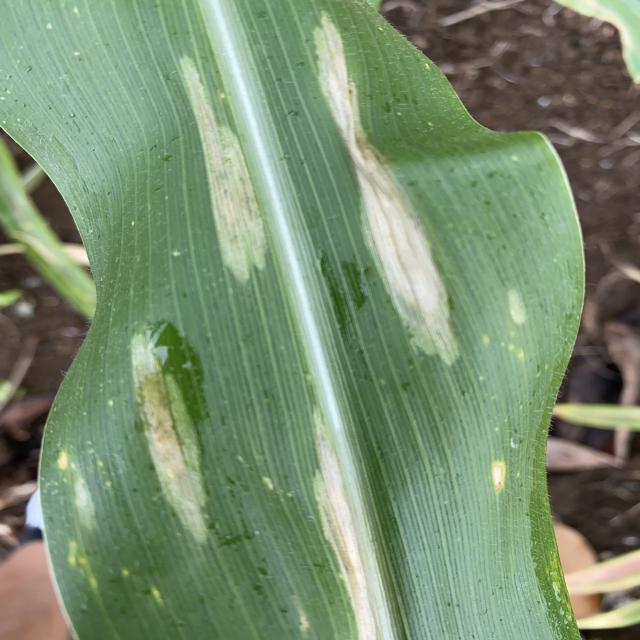Corn_Leaf_Blight: (76, 4, 522, 640)
